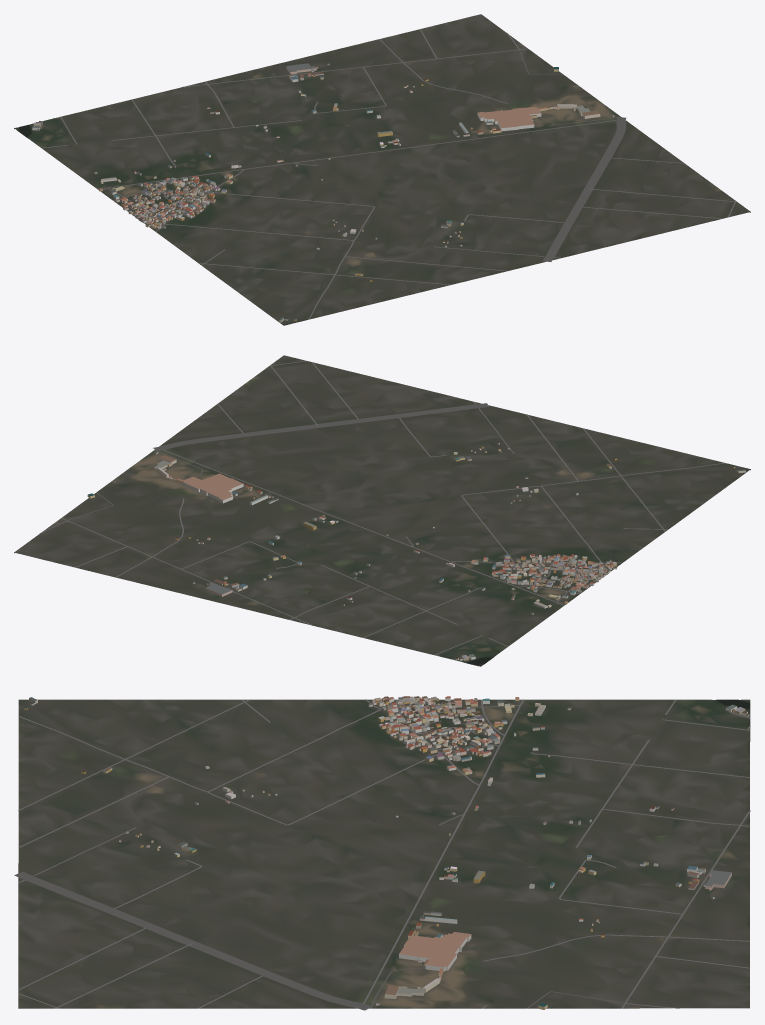
3 renders of one model, top to bottom at view 1: azimuth 30°, elevation 25°; view 2: azimuth 150°, elevation 25°; view 3: azimuth 270°, elevation 25°, orthographic. The views are drawn at different scales.
Visible parts, largest first — view 1: ground, buildings, roads; view 2: ground, buildings, roads; view 3: ground, buildings, roads.
Part boxes in pixels (left/top/right/bottom): ground: left=14, top=14, right=750, bottom=325; buildings: left=32, top=63, right=614, bottom=322; roads: left=40, top=29, right=736, bottom=319; ground: left=14, top=355, right=750, bottom=666; buildings: left=87, top=442, right=745, bottom=660; roads: left=39, top=360, right=725, bottom=659; ground: left=18, top=699, right=750, bottom=1008; buildings: left=24, top=696, right=749, bottom=1009; roads: left=14, top=699, right=750, bottom=1010.
Bounding box in the file's own units: 1417 × 13.05 × 1412.
